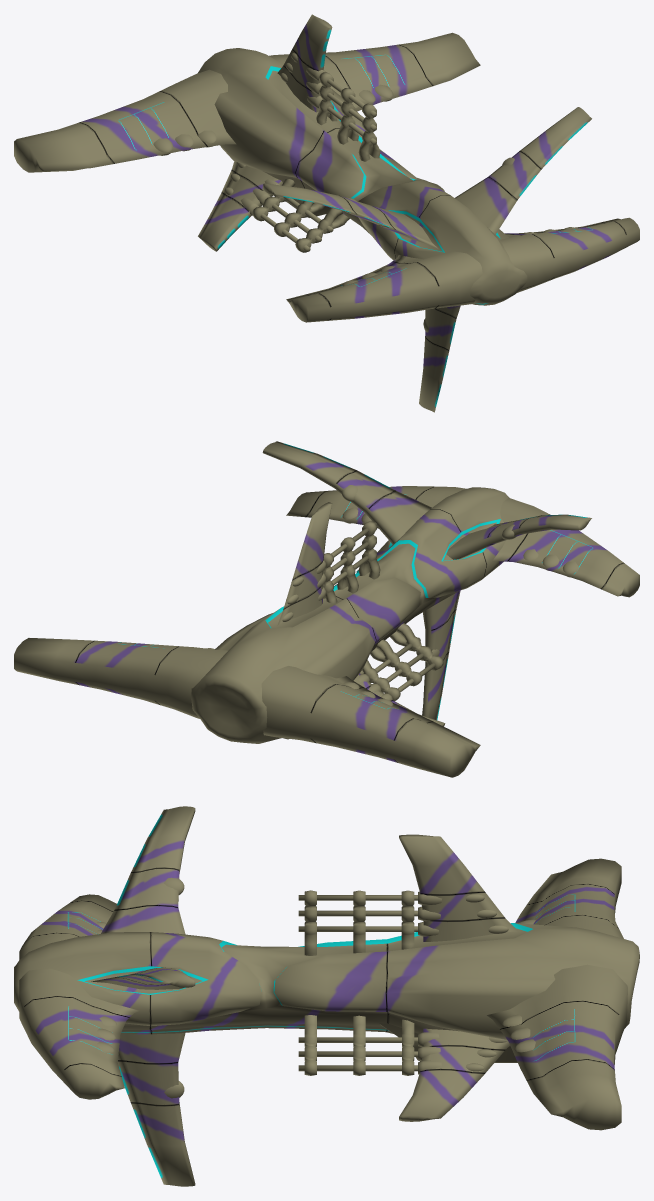
The model's file is anaxander.dae.
The picture shows the model from 3 angles, top to bottom: view 1: azimuth 30°, elevation 25°; view 2: azimuth 150°, elevation 25°; view 3: azimuth 270°, elevation 25°; orthographic projection. The views are drawn at different scales.
Parts seen in each view (by area): view 1: anaxander1; view 2: anaxander1; view 3: anaxander1.
Boxes of the visible parts, x1,y1,x2,y2 form: anaxander1: (14,14,639,412); anaxander1: (14,441,639,777); anaxander1: (14,806,639,1186).
Size of the model in its own units: 6.54 by 4.42 by 7.21.
